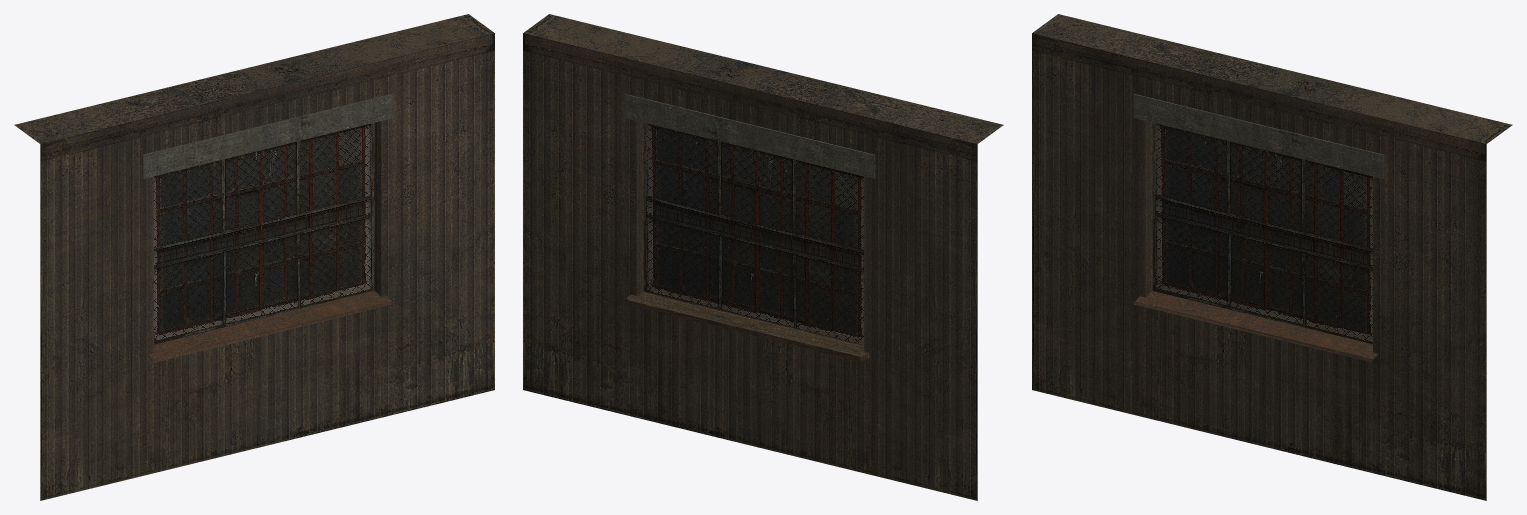
The model's file is WindowWooden1.gltf.
3 renders of one model, left to right at view 1: azimuth 30°, elevation 25°; view 2: azimuth 150°, elevation 25°; view 3: azimuth 330°, elevation 25°, orthographic.
Visible parts, largest first — view 1: WindowWooden1; view 2: WindowWooden1; view 3: WindowWooden1.
Boxes of the visible parts, <box> form: WindowWooden1: <box>14,14,494,500</box>; WindowWooden1: <box>523,14,1003,500</box>; WindowWooden1: <box>1032,14,1512,500</box>.
Bounding box in the file's own units: 4 × 3 × 0.595.
Materials: 7 (7 with a texture image).
